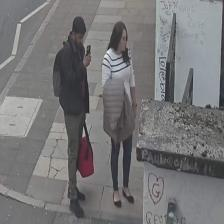person: (52, 16, 91, 218), (101, 21, 136, 205)
